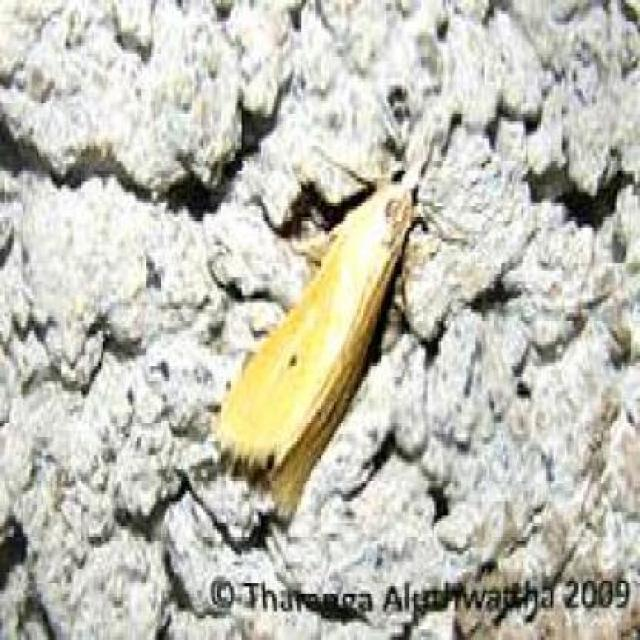stem-borer: (199, 134, 433, 527)
